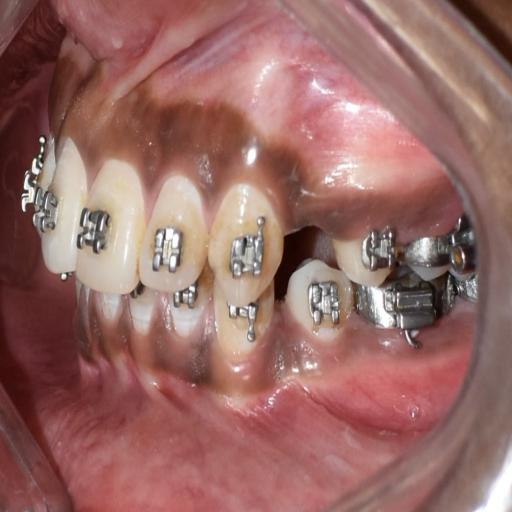correct_brace: (223, 212, 271, 294), (302, 274, 348, 340), (74, 194, 117, 262), (147, 221, 187, 279)
incorrect_brace: (137, 145, 209, 299)
